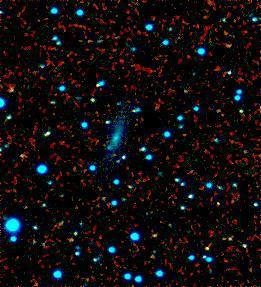star: (191, 234, 221, 264)
